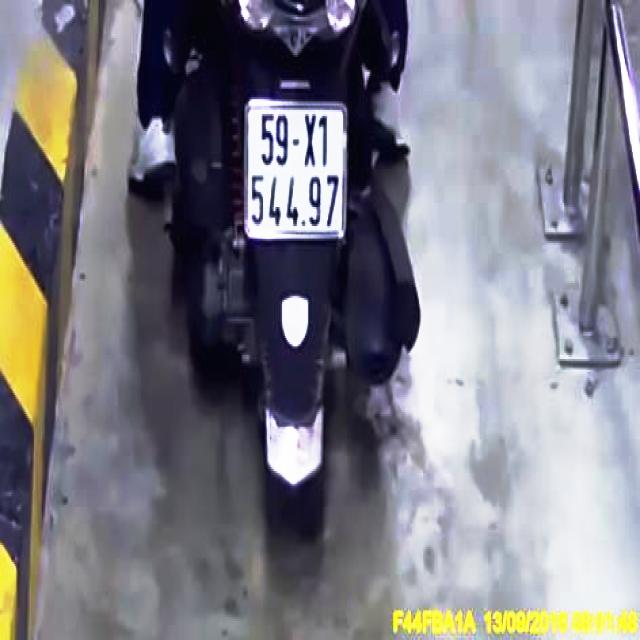license_plate: (246, 100, 347, 236)
